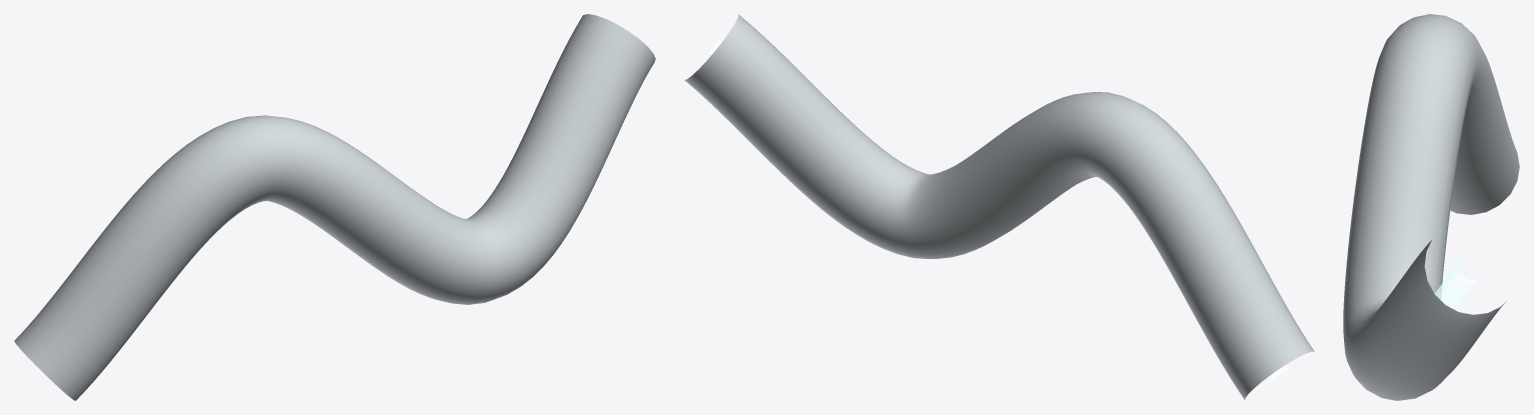
3 renders of one model, left to right at view 1: azimuth 30°, elevation 25°; view 2: azimuth 150°, elevation 25°; view 3: azimuth 270°, elevation 25°, orthographic. The views are drawn at different scales.
Parts seen in each view (by area): view 1: light-guide; view 2: light-guide; view 3: light-guide, light-core.
Part boxes in pixels (x1,y1,x2,y2): light-guide: (14,14,655,400); light-guide: (684,14,1314,400); light-guide: (1343,14,1519,400); light-core: (1435,261,1479,309).
Size of the model in its own units: 2.18 by 0.836 by 0.4722.
